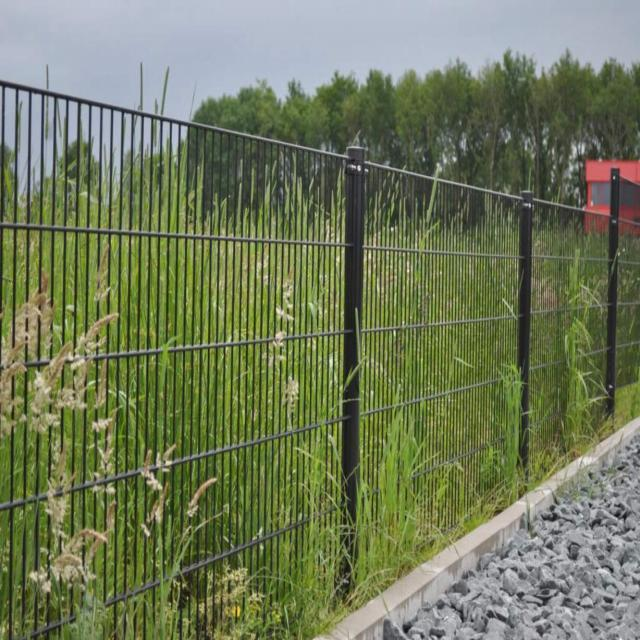fence line: (8, 98, 382, 640), (311, 185, 640, 475)
